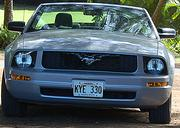front_view: (13, 46, 177, 118)
headlight: (136, 51, 169, 77)
